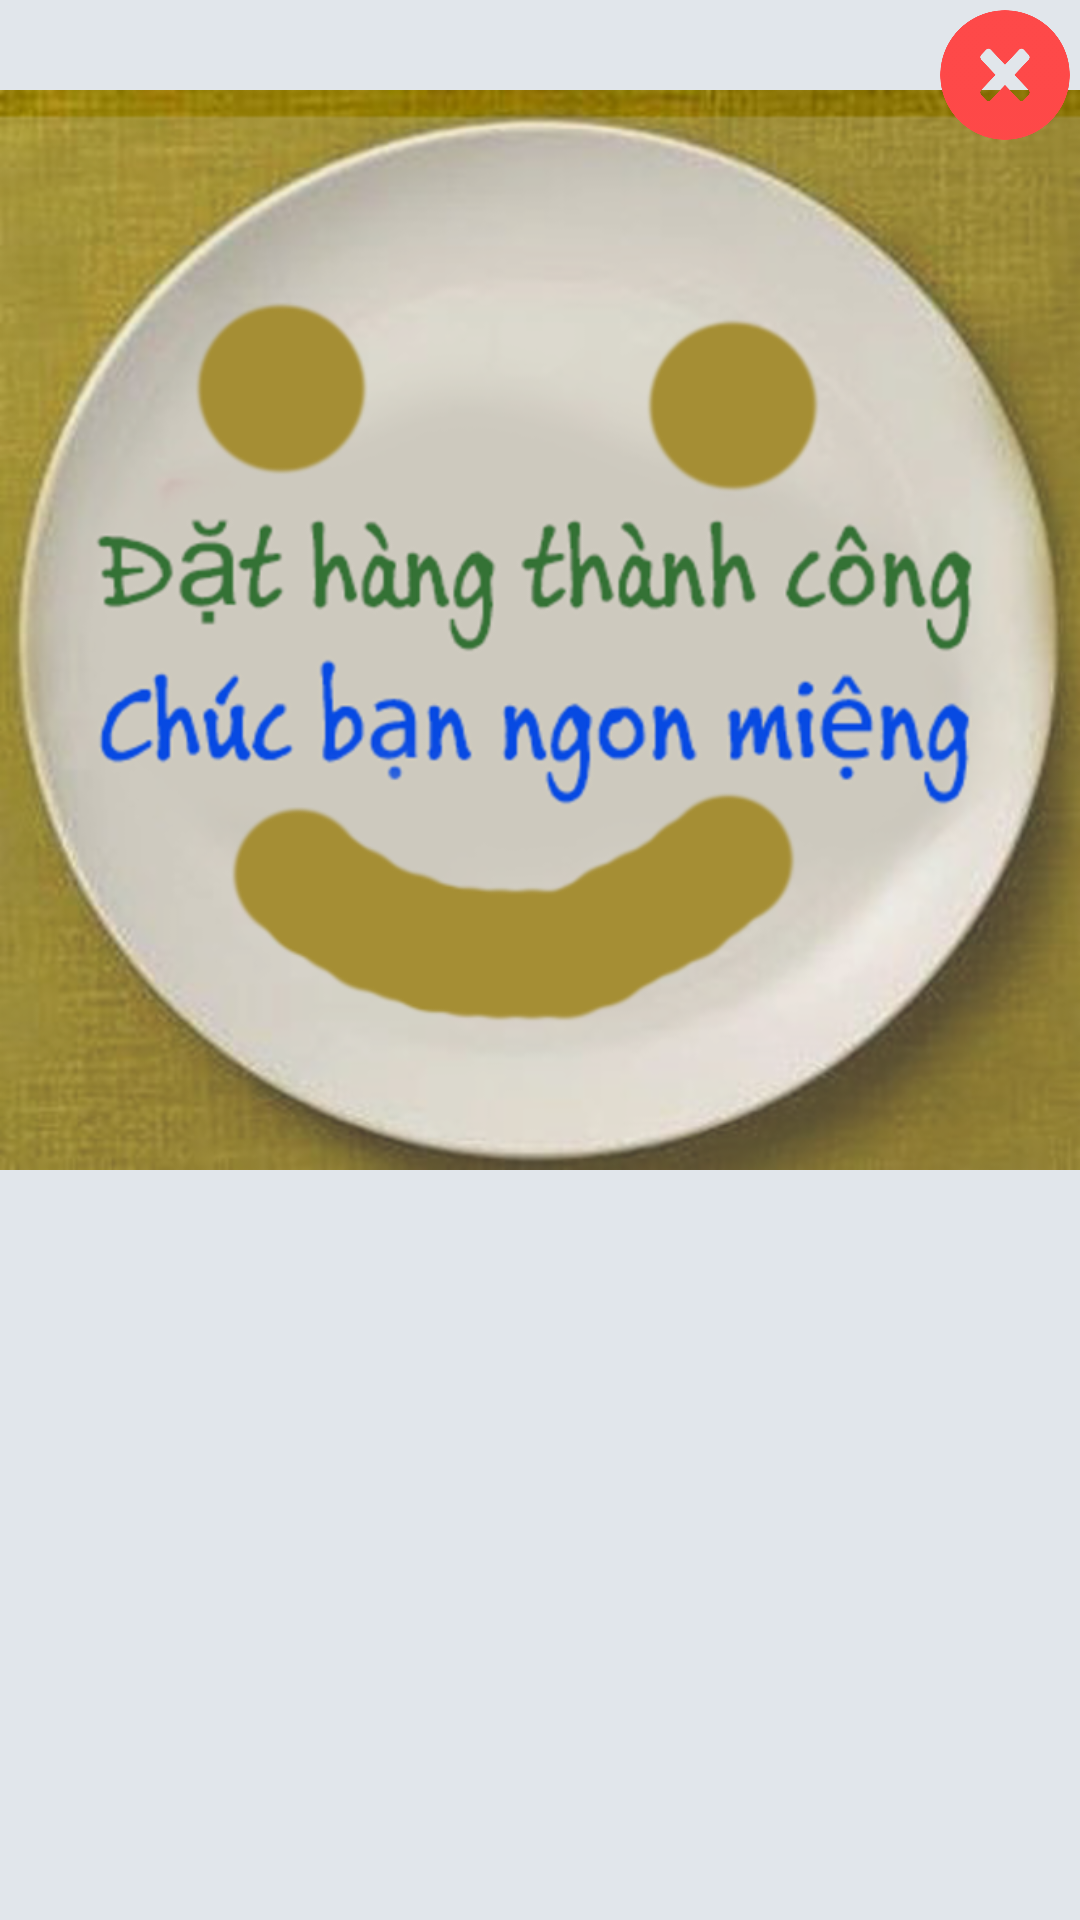

Screen size 1080x1920. Icon name, then its center in pixels as point (x, y):
close: point (1005, 75)
